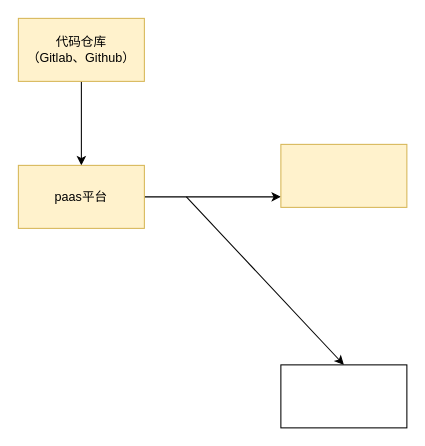
Image size: 425x446. Some labels were removed from this diagram. The centre of each missing label's shape, as x and y in pixels:
容器集群（k8s、云集群）: [343,175]
镜像仓库（Docker hub）: [343,396]
